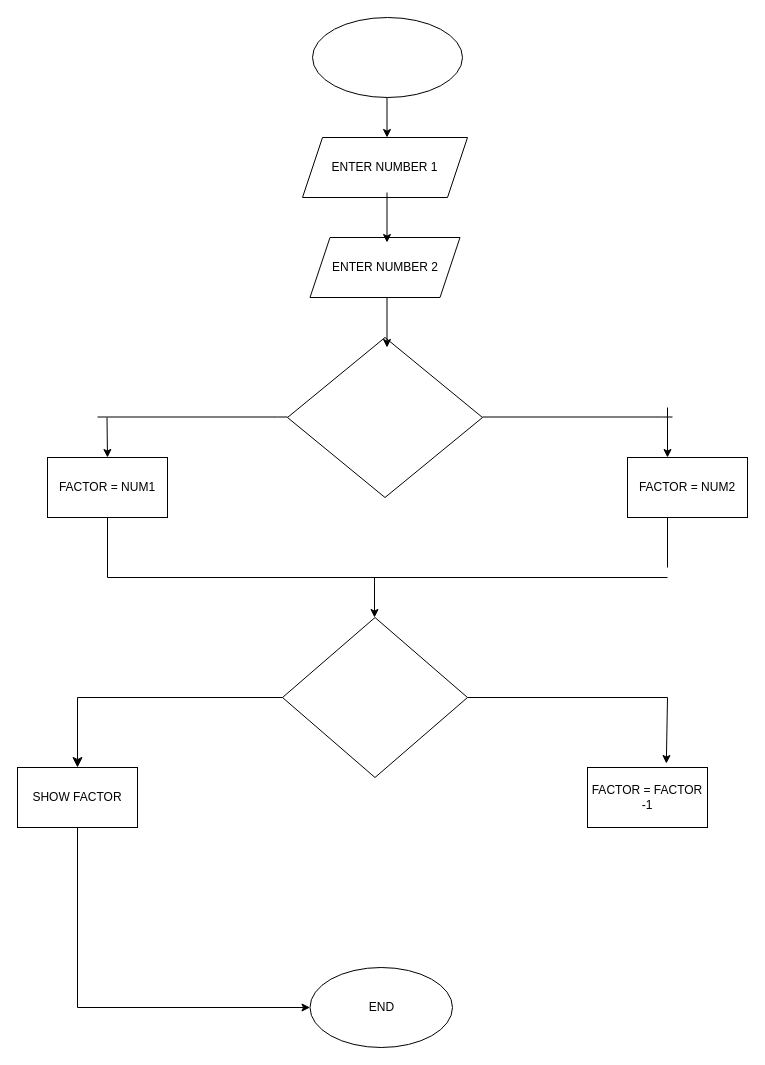
Image size: 765x1065. Some labels were removed from this diagram. Each missing label, with the centre of its shape:
"IF NUM1 % FACTOR != 0 OR NUM2 % FACTOR != 0" belongs at (375,697).
"IF NUM1 < NUM2" belongs at (384,417).
"START" belongs at (387,57).
